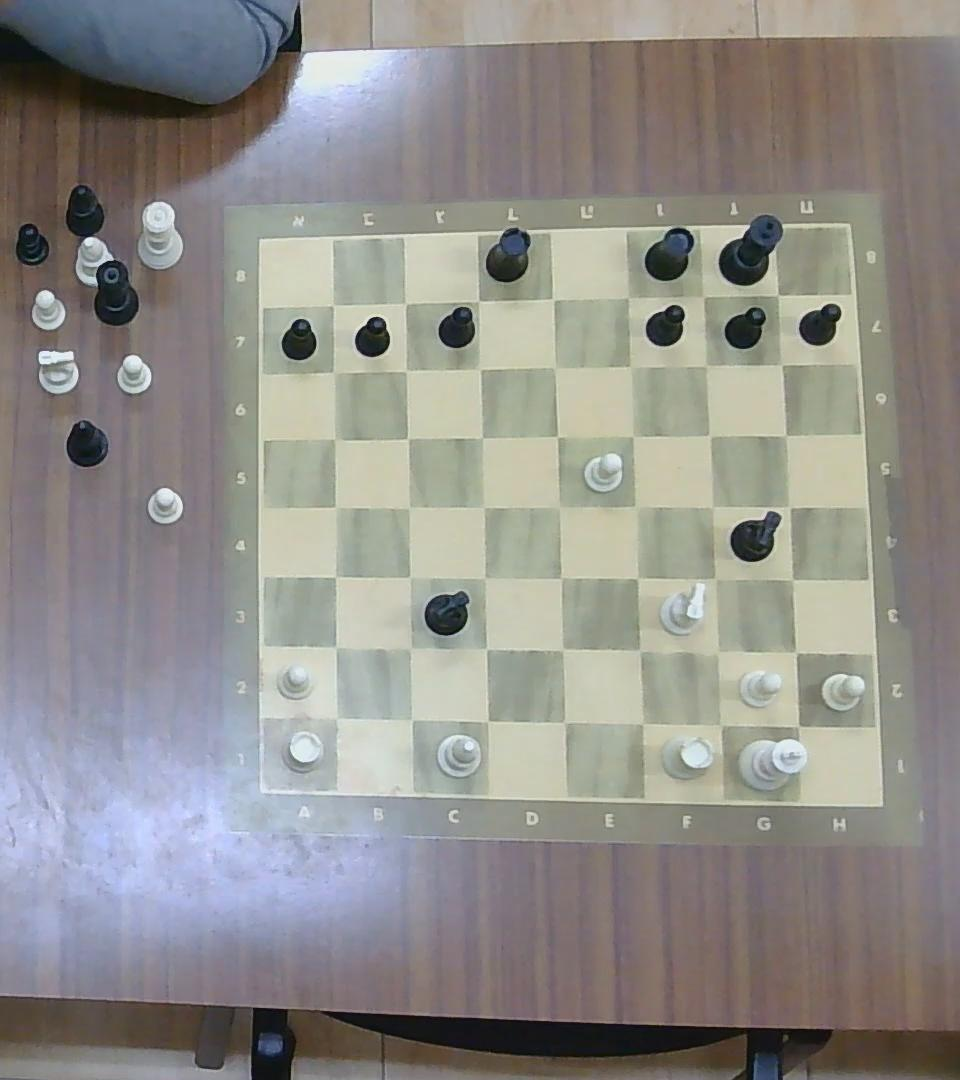xcorner: (624, 705, 658, 739), (702, 707, 737, 740), (781, 708, 813, 742), (701, 635, 734, 667), (470, 704, 502, 736), (548, 705, 579, 738), (624, 633, 655, 665), (320, 701, 351, 733), (776, 563, 808, 594), (470, 632, 501, 663), (780, 637, 811, 668), (395, 703, 425, 734), (699, 563, 729, 594), (394, 632, 424, 663), (622, 563, 652, 593), (547, 634, 577, 664), (470, 563, 500, 593), (547, 563, 576, 593), (320, 562, 350, 591), (622, 491, 651, 521), (320, 631, 350, 660), (544, 491, 573, 520), (394, 562, 423, 591), (698, 491, 727, 520), (775, 491, 804, 520), (616, 351, 645, 380), (470, 491, 498, 520), (466, 421, 495, 449), (322, 492, 350, 520), (619, 421, 647, 449), (395, 492, 423, 519), (543, 421, 571, 448), (393, 423, 421, 450), (538, 285, 566, 312), (540, 352, 568, 379), (692, 352, 720, 379), (318, 292, 346, 318), (696, 422, 723, 448), (615, 283, 641, 310), (320, 358, 348, 383), (322, 424, 348, 449), (768, 350, 794, 375), (773, 421, 798, 446), (465, 288, 491, 312), (393, 357, 418, 381), (467, 355, 491, 380), (691, 283, 715, 307), (393, 290, 417, 313), (767, 283, 790, 306)
